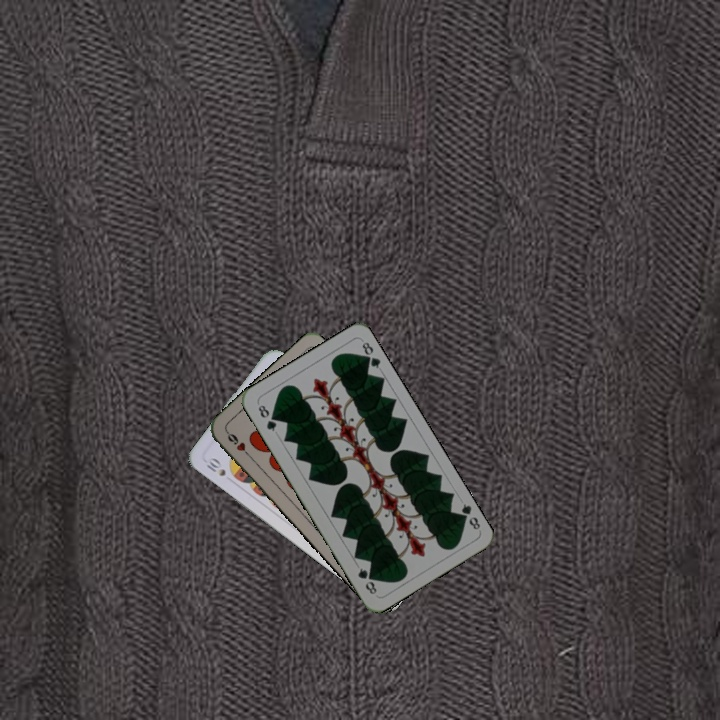G8: (454, 500, 483, 532), (254, 401, 279, 434)
H9: (222, 427, 254, 460)
S10: (202, 454, 228, 479)
